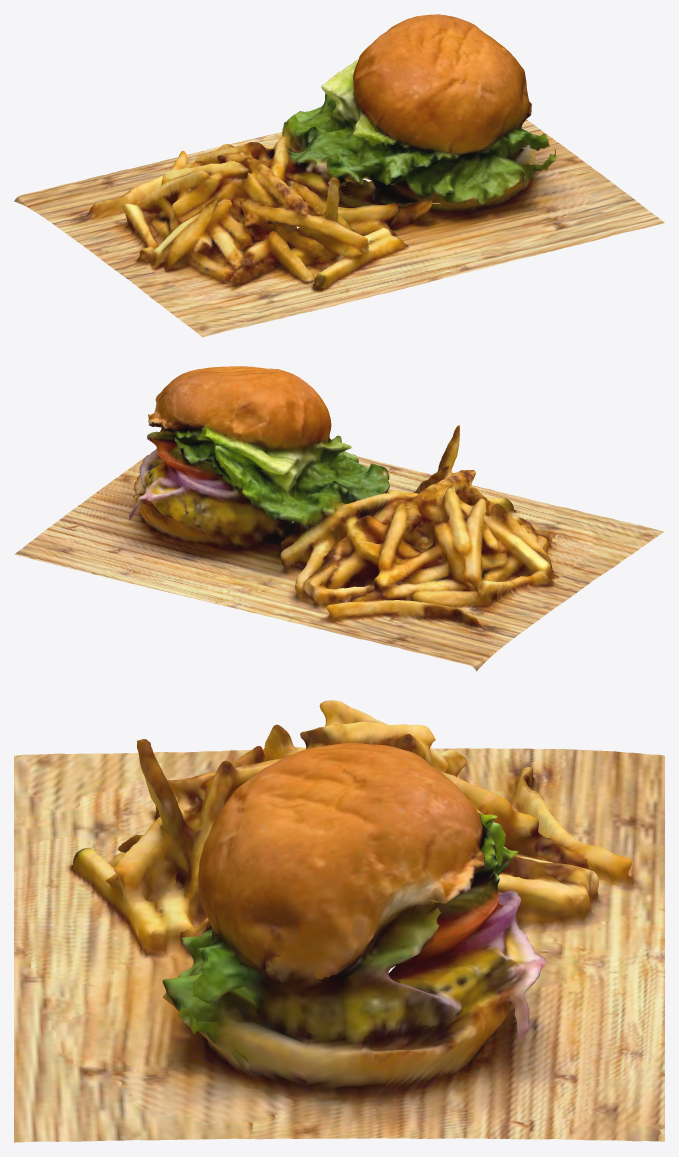
The model's file is burger.glb.
3 renders of one model, top to bottom at view 1: azimuth 30°, elevation 25°; view 2: azimuth 150°, elevation 25°; view 3: azimuth 270°, elevation 25°, orthographic. The views are drawn at different scales.
Parts seen in each view (by area): view 1: Object_2, Object_3; view 2: Object_2, Object_3; view 3: Object_2, Object_3.
Boxes of the visible parts, left/top/right/bottom form: Object_2: left=14, top=16, right=664, bottom=337; Object_3: left=92, top=14, right=542, bottom=272; Object_2: left=14, top=366, right=664, bottom=671; Object_3: left=16, top=374, right=549, bottom=628; Object_2: left=14, top=701, right=664, bottom=1142; Object_3: left=106, top=700, right=661, bottom=1141.
Bounding box in the file's own units: 0.3121 × 0.1015 × 0.2203.
Materials: 1 (1 with a texture image).
